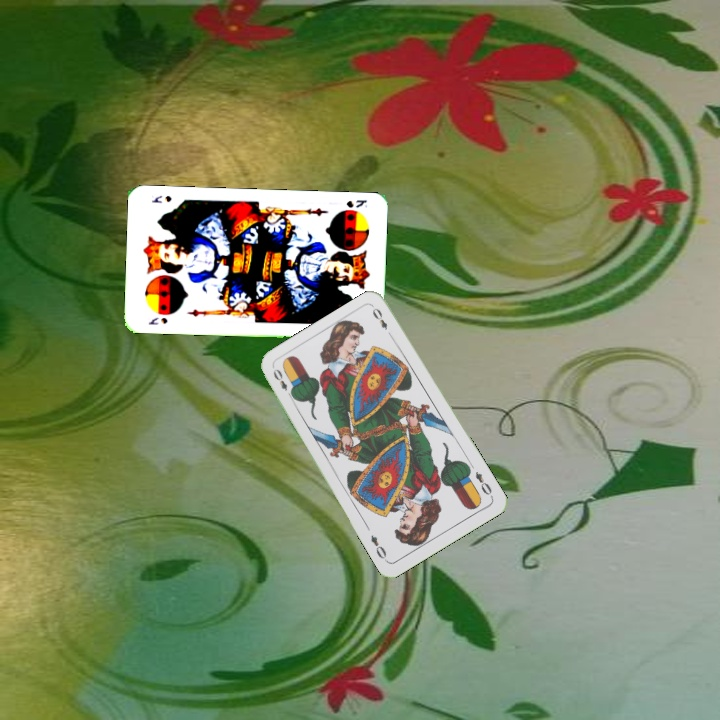EO: (269, 365, 297, 401), (471, 467, 495, 500)
SK: (343, 196, 370, 210), (144, 313, 170, 327)
